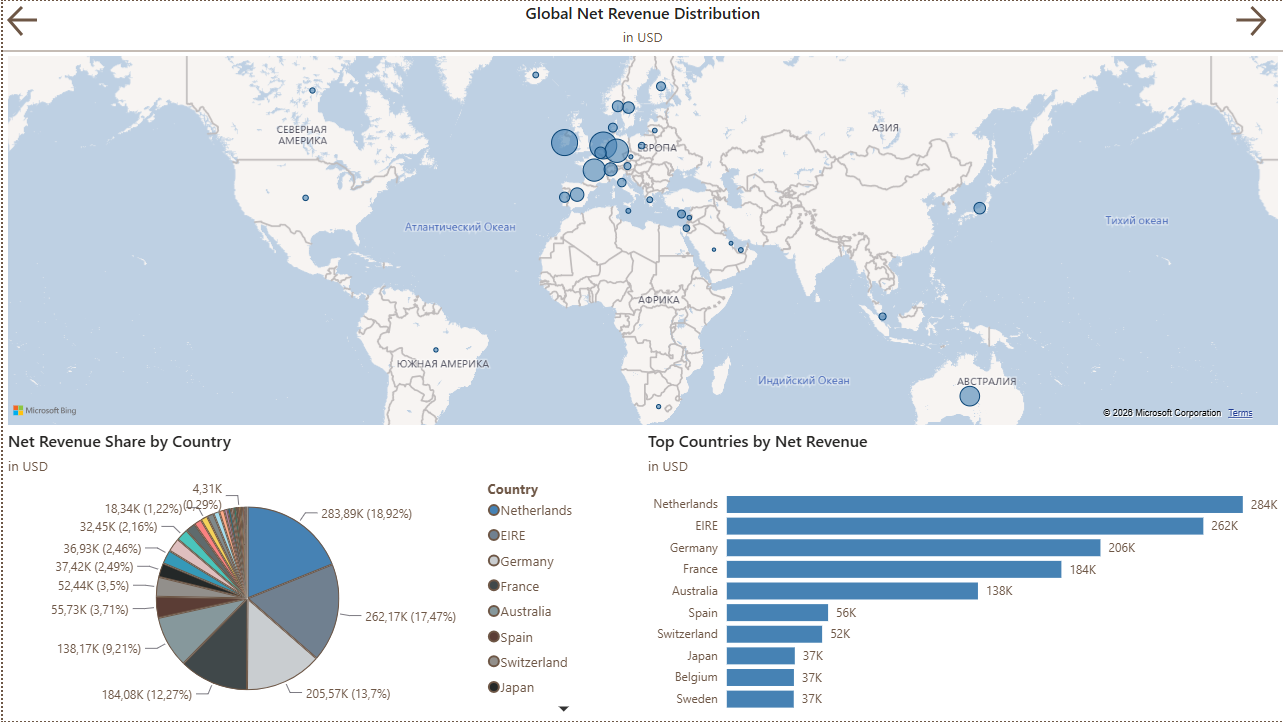

The page's visual inventory and layout, read from the dashboard file:
{"tool":"powerbi","page":{"name":"Региональная структура","canvas":[1280,720],"ordinal":1},"visuals":[{"type":"barChart","title":"Top Countries by Net Revenue","fields":{"Category":["Final_Online Retail.Country"],"Y":["Final_Online Retail.Net_Revenue_2"]},"box":[640,428.6,640,291.4],"z":0},{"type":"pieChart","title":"Net Revenue Share by Country","fields":{"Category":["Final_Online Retail.Country"],"Y":["Final_Online Retail.Net_Revenue_2"]},"box":[0,428.1,639.5,292.3],"z":1000},{"type":"map","title":"Global Net Revenue Distribution","fields":{"Size":["Final_Online Retail.Net_Revenue_2"],"Category":["Final_Online Retail.Country"]},"box":[0,0,1279.7,428.4],"z":2000},{"type":"actionButton","box":[0,0,105,40],"z":3000},{"type":"actionButton","box":[1227.5,0,52.5,40],"z":4000}]}

Visuals, with their boxes in screenshot pixels (x1, y1, x2, y2), scaled from the page's 1280x720 canvas onto the 1283x722 screenshot:
"Top Countries by Net Revenue" barChart: Rect(642, 430, 1282, 721)
"Net Revenue Share by Country" pieChart: Rect(0, 429, 641, 721)
"Global Net Revenue Distribution" map: Rect(0, 0, 1282, 430)
actionButton: Rect(0, 0, 105, 40)
actionButton: Rect(1230, 0, 1282, 40)
